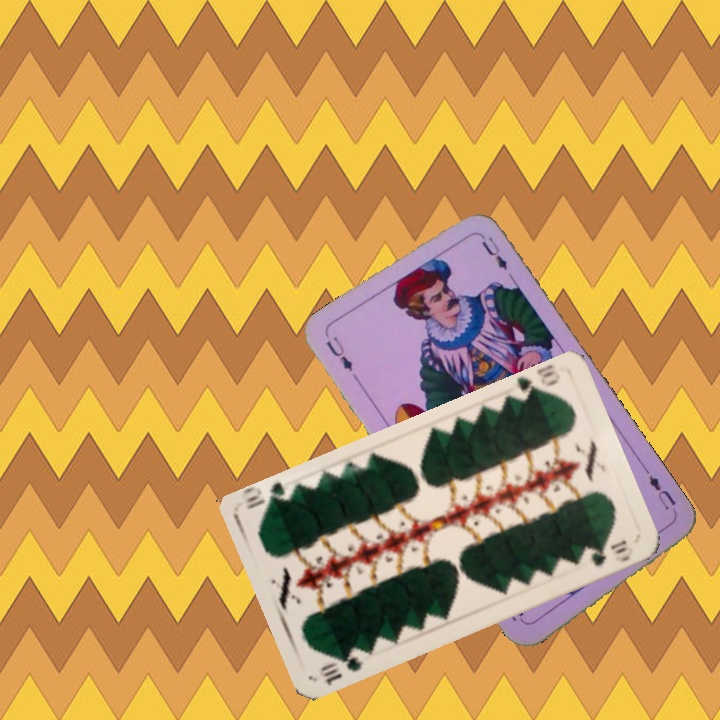EU: (644, 470, 679, 512), (322, 332, 356, 374)
G10: (316, 645, 368, 688), (510, 363, 563, 404)
